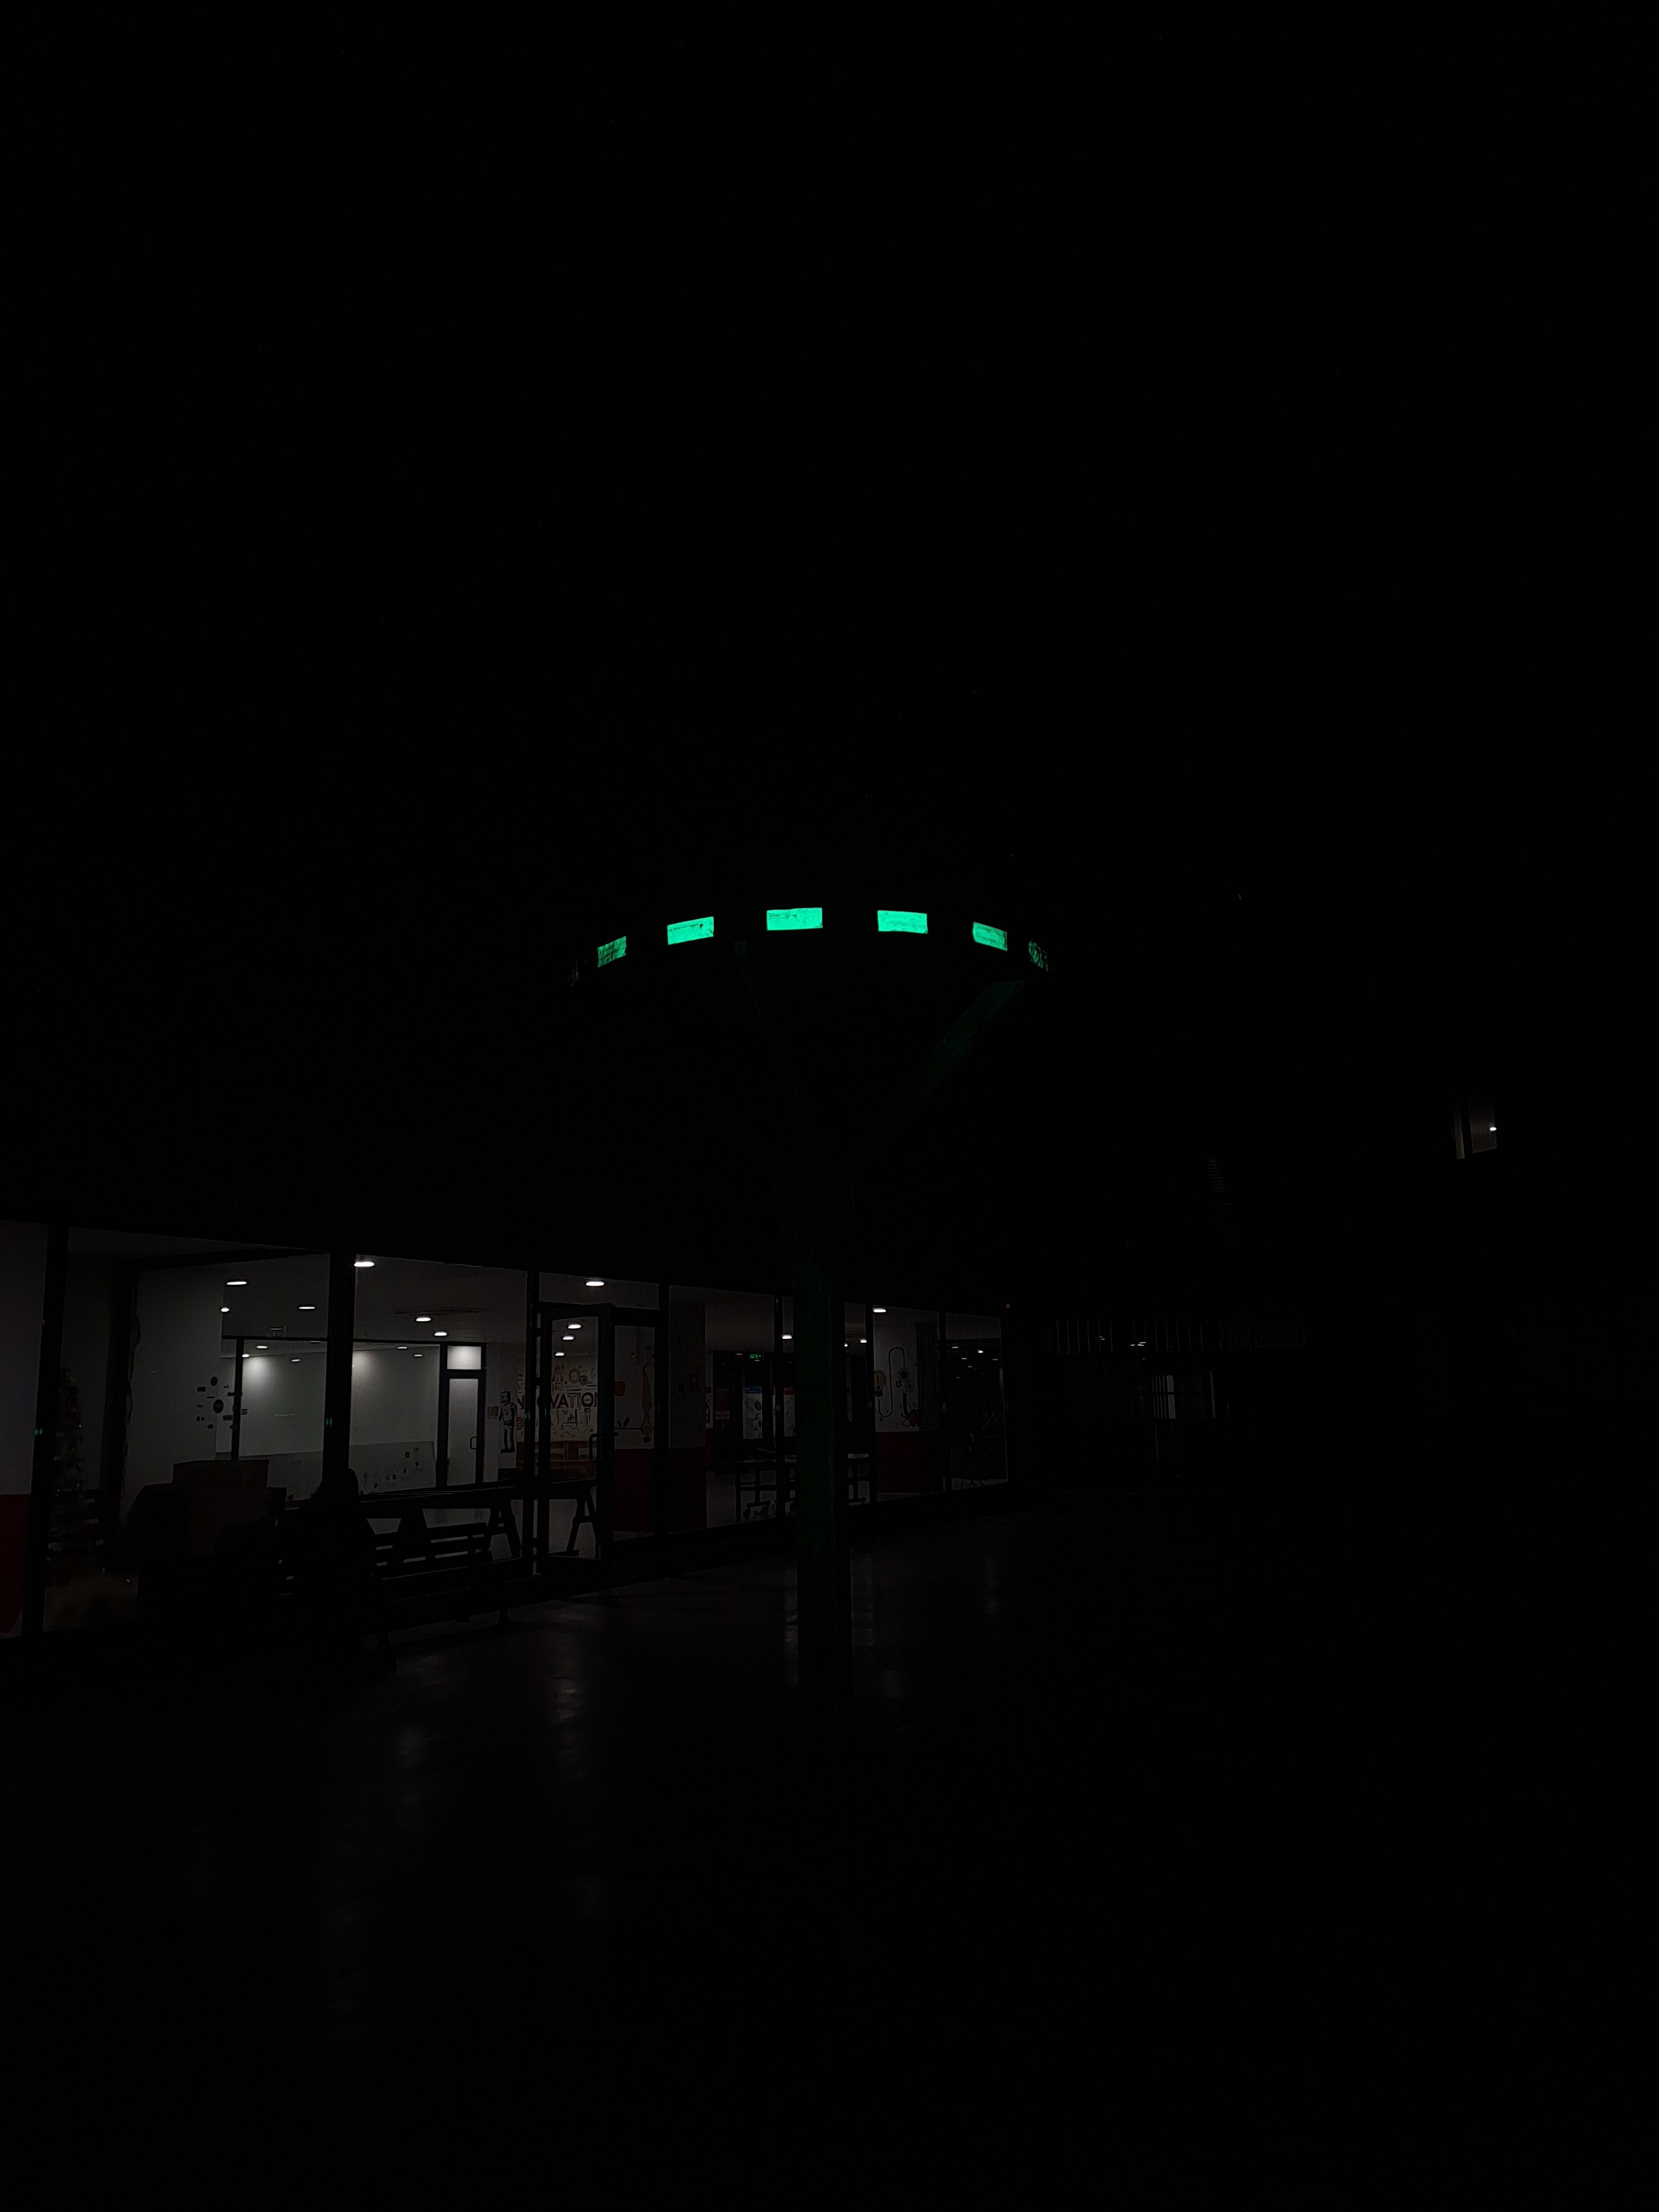hoop: (591, 909, 1054, 977)
